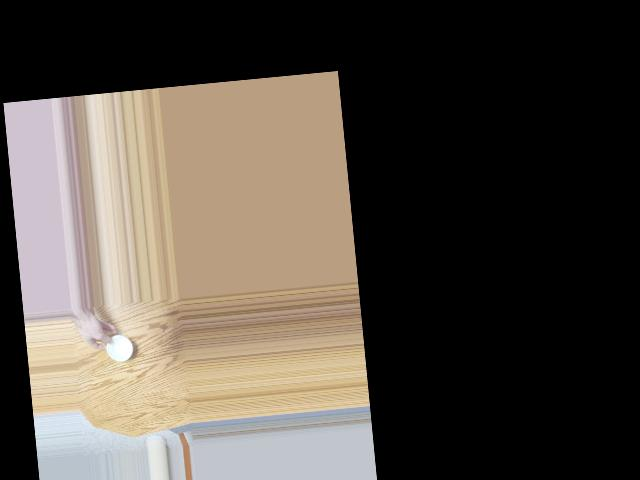cotage: (103, 334, 136, 363)
